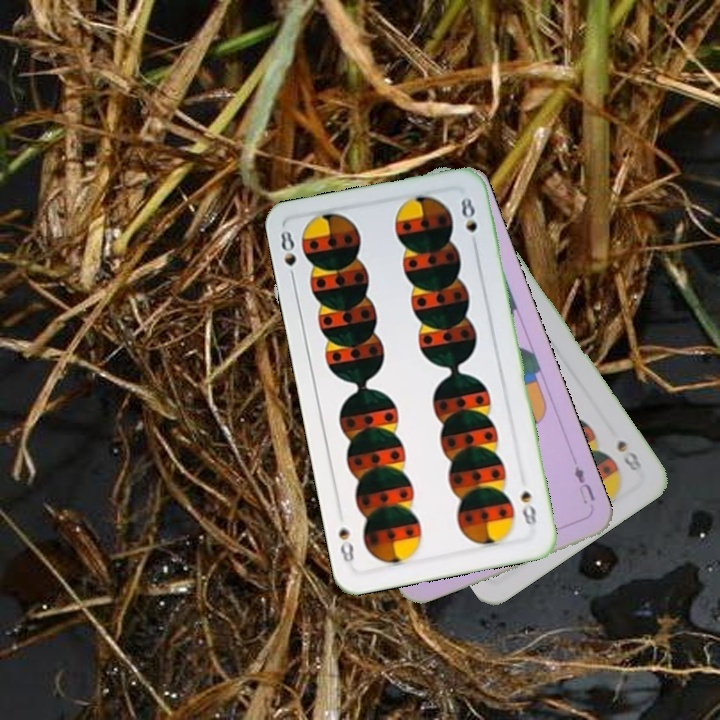EU: (570, 462, 598, 507)
S8: (276, 226, 300, 285), (612, 435, 645, 474), (516, 487, 539, 528)
